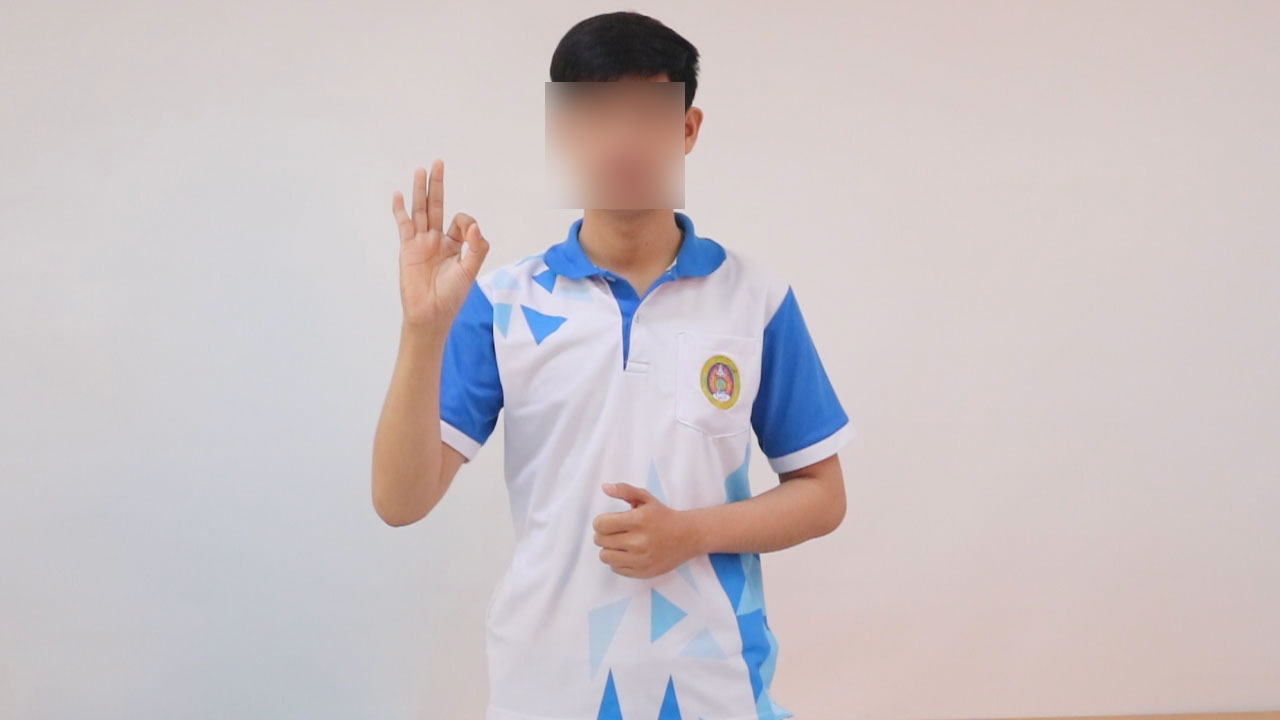for: (385, 151, 497, 342)
